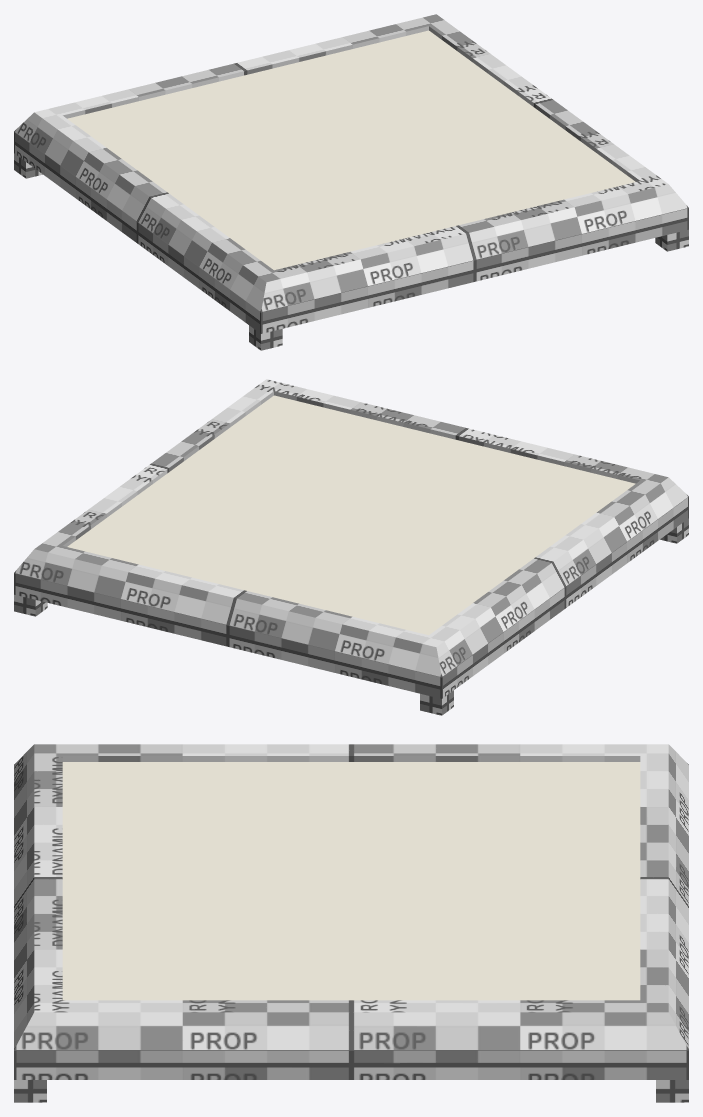
Rendered from LM_SwitchPanel.fbx.
3 views of the same model, one above another, from view 1: azimuth 30°, elevation 25°; view 2: azimuth 150°, elevation 25°; view 3: azimuth 270°, elevation 25° (orthographic). The views are drawn at different scales.
Visible parts, largest first — view 1: Light_GFX, Plate_GFX, Peg, Peg_4, Peg_3; view 2: Light_GFX, Plate_GFX, Peg, Peg_2, Peg_1; view 3: Light_GFX, Plate_GFX, Peg, Peg_1, Peg_3.
Boxes of the visible parts, x1,y1,x2,y2 form: Light_GFX: (67, 30, 635, 270); Plate_GFX: (14, 14, 688, 312); Peg: (14, 131, 688, 333); Peg_4: (249, 325, 282, 350); Peg_3: (655, 229, 688, 251); Light_GFX: (67, 395, 635, 635); Plate_GFX: (14, 379, 688, 677); Peg: (14, 496, 688, 698); Peg_2: (420, 690, 453, 715); Peg_1: (14, 594, 47, 616); Light_GFX: (62, 762, 640, 1000); Plate_GFX: (14, 744, 688, 1049); Peg: (14, 1050, 688, 1079); Peg_1: (656, 1080, 688, 1102); Peg_3: (14, 1080, 46, 1102).
Bounding box in the file's own units: 200 × 26.79 × 200.
